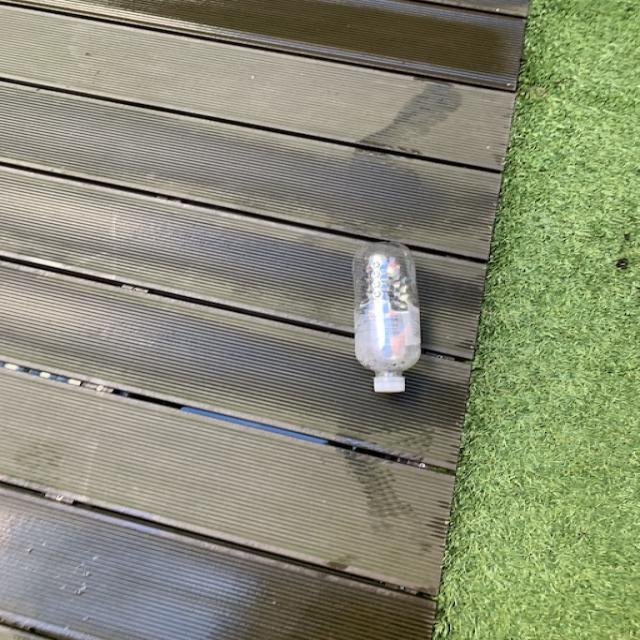Waste: (354, 243, 421, 393)
